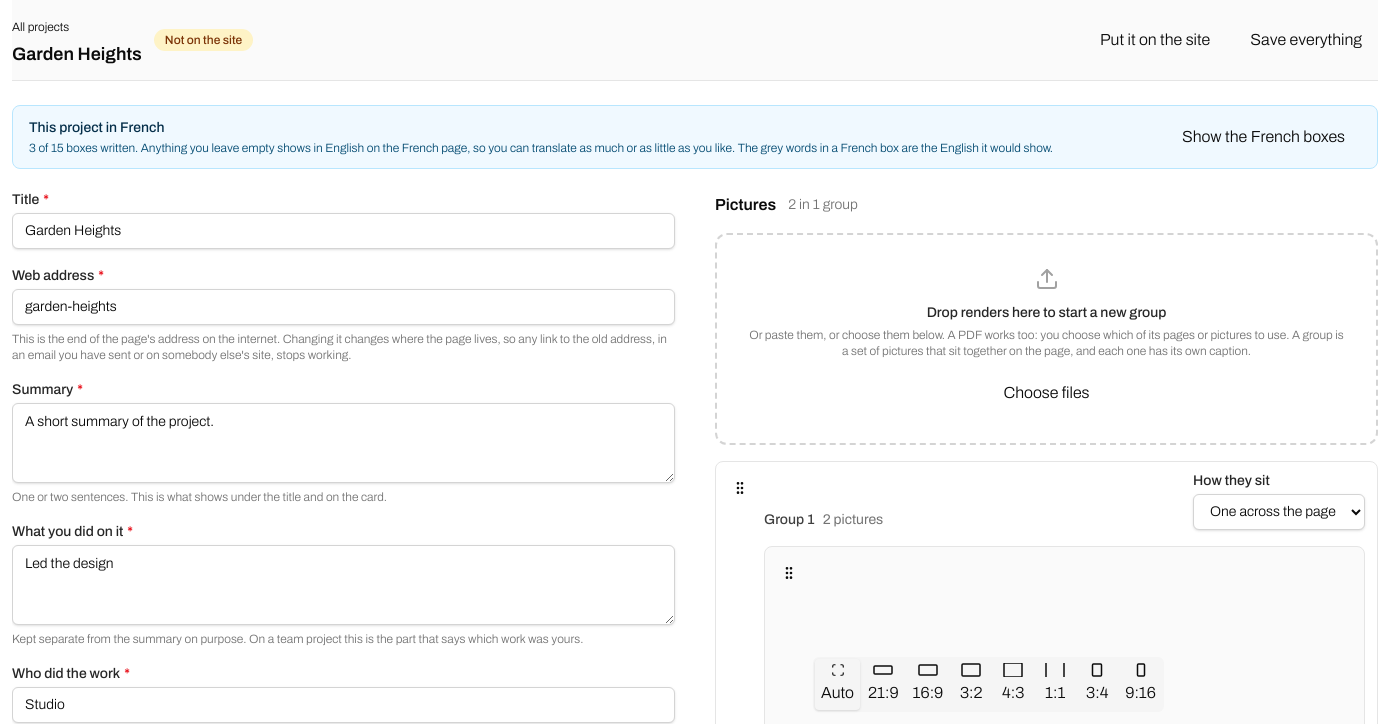
Test: the one save button › counts a change of mind about the site as unsaved work of its own
The image size is (1390, 724).
Expected: the text "Not saved yet" is not shown
What coordinates should you click on to do the following:
click the button "Put it on the site"
I would click on:
 (1155, 40)
Its box is [1084,22,1226,58].
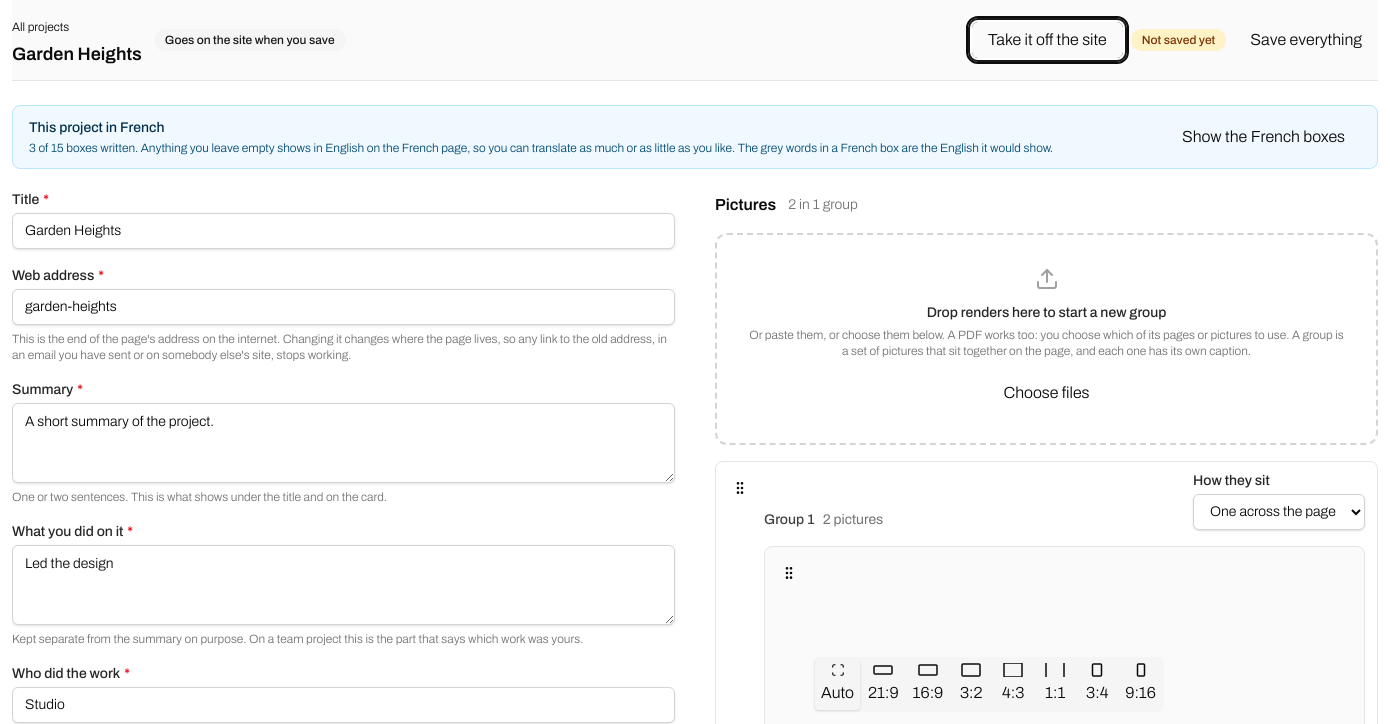
Now the text "Not saved yet" is shown, box [1131,29,1226,51]
